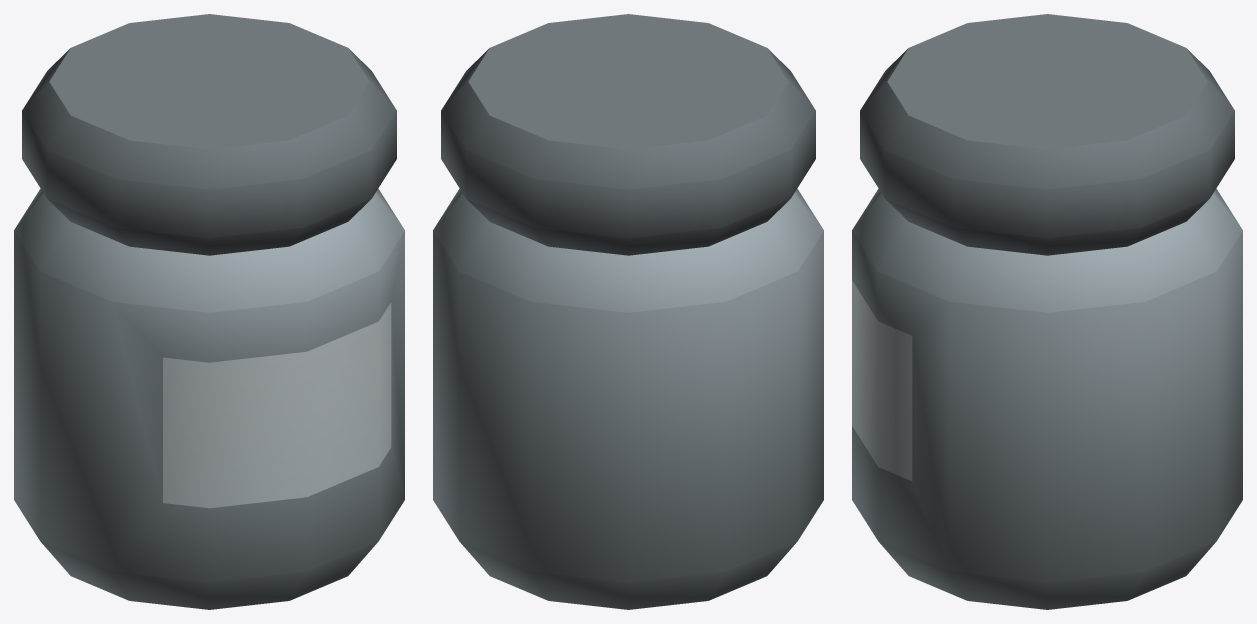
Rendered from jar_B_medium.obj.
3 renders of one model, left to right at view 1: azimuth 30°, elevation 25°; view 2: azimuth 150°, elevation 25°; view 3: azimuth 270°, elevation 25°, orthographic.
Visible parts, largest first — view 1: jar_B_medium_Cylinder.265; view 2: jar_B_medium_Cylinder.265; view 3: jar_B_medium_Cylinder.265.
Boxes of the visible parts, x1,y1,x2,y2 form: jar_B_medium_Cylinder.265: [14, 14, 404, 609]; jar_B_medium_Cylinder.265: [433, 14, 823, 609]; jar_B_medium_Cylinder.265: [852, 14, 1242, 609].
Bounding box in the file's own units: 0.5 × 0.65 × 0.5.
1 material, 1 textured.
